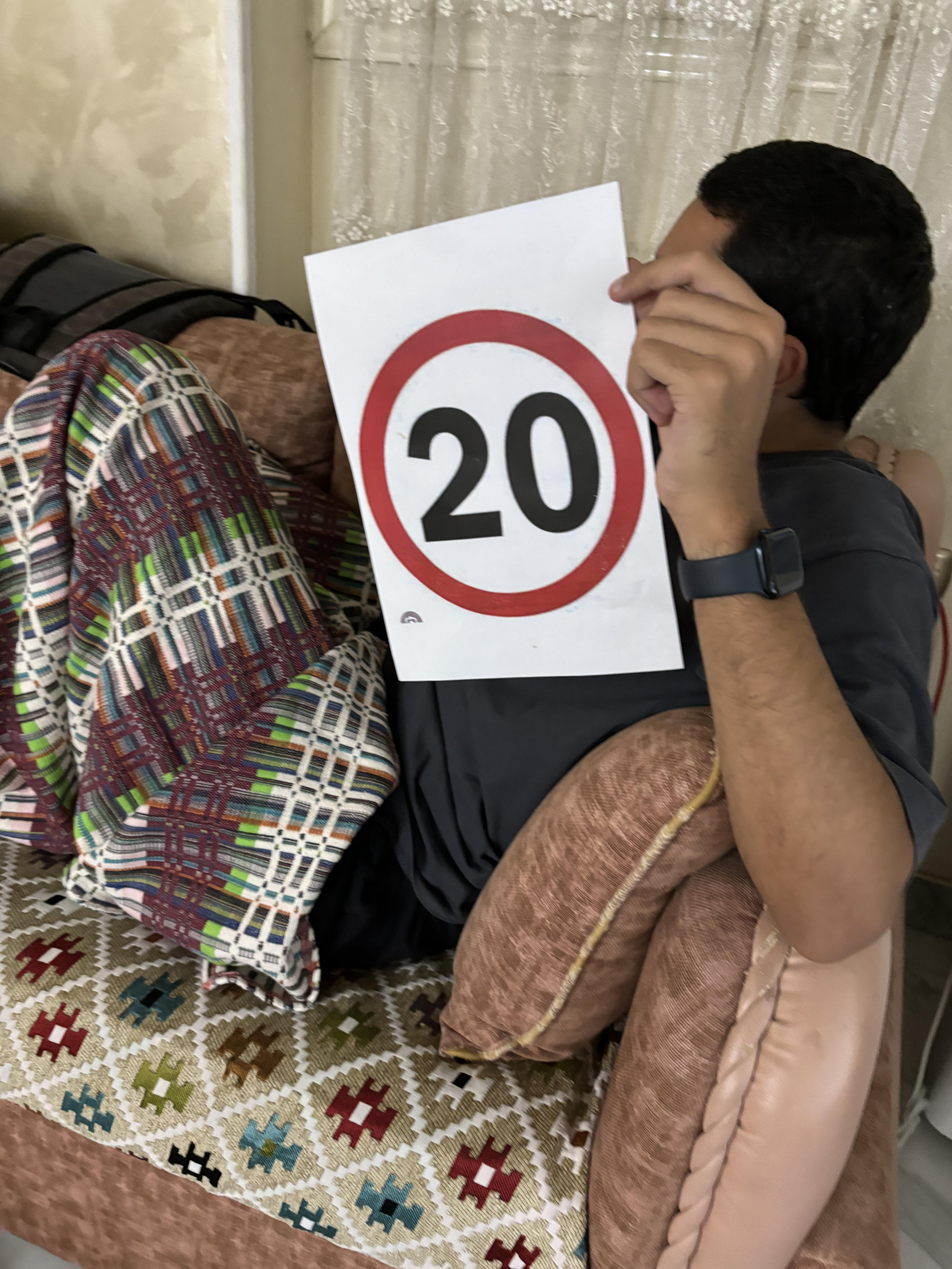20-Speed: (349, 305, 650, 611)
